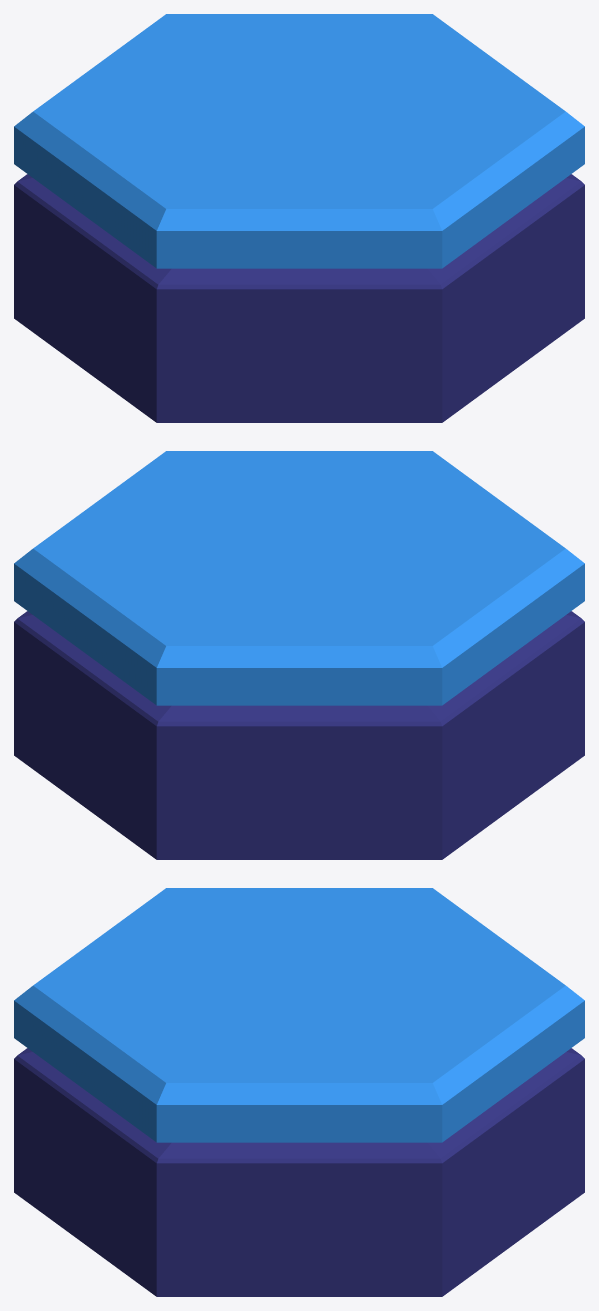
Rendered from Tile_water.fbx.
3 renders of one model, top to bottom at view 1: azimuth 30°, elevation 25°; view 2: azimuth 150°, elevation 25°; view 3: azimuth 270°, elevation 25°, orthographic.
Visible parts, largest first — view 1: Watertile; view 2: Watertile; view 3: Watertile.
Boxes of the visible parts, bbox=[...] form: Watertile: bbox=[14, 14, 584, 422]; Watertile: bbox=[14, 451, 584, 859]; Watertile: bbox=[14, 888, 584, 1296].
Size of the model in its own units: 173 by 80 by 200.
